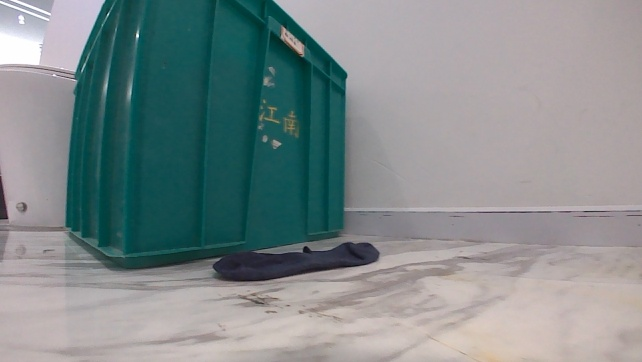socks: (211, 240, 385, 284)
toilet: (0, 55, 88, 235)
